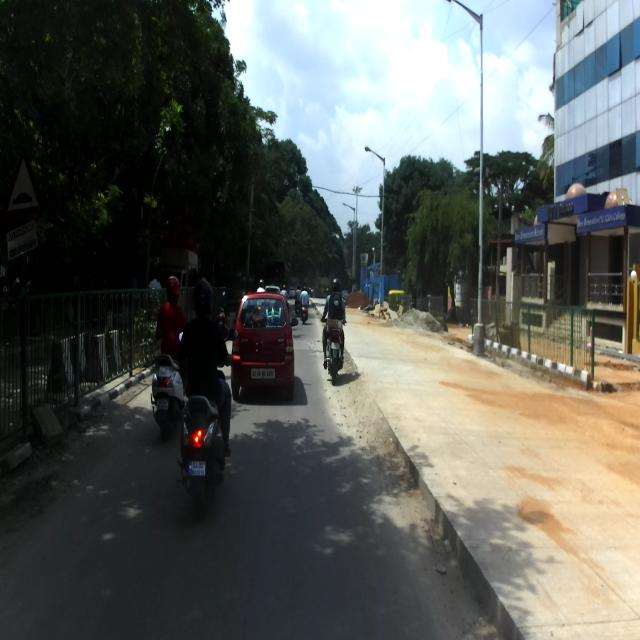car ahead at: (235, 289, 295, 402)
motorcycle ahead at: (179, 390, 234, 498), (150, 351, 183, 424), (320, 321, 349, 378)
